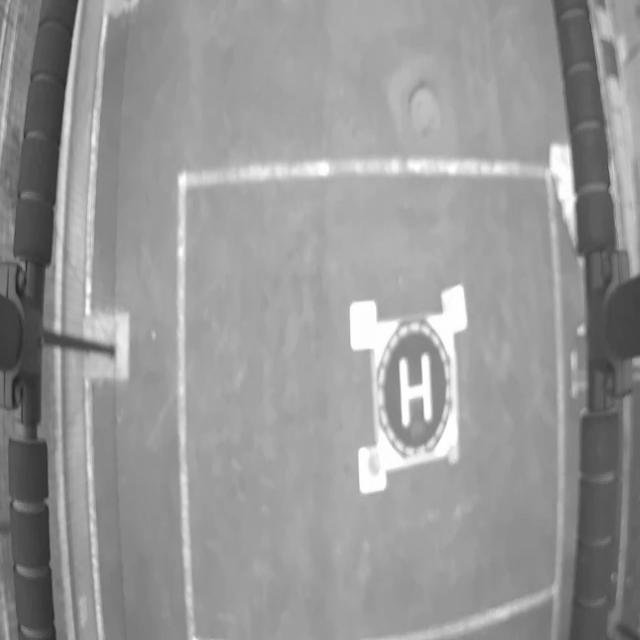Helipad: (398, 353, 432, 428)
